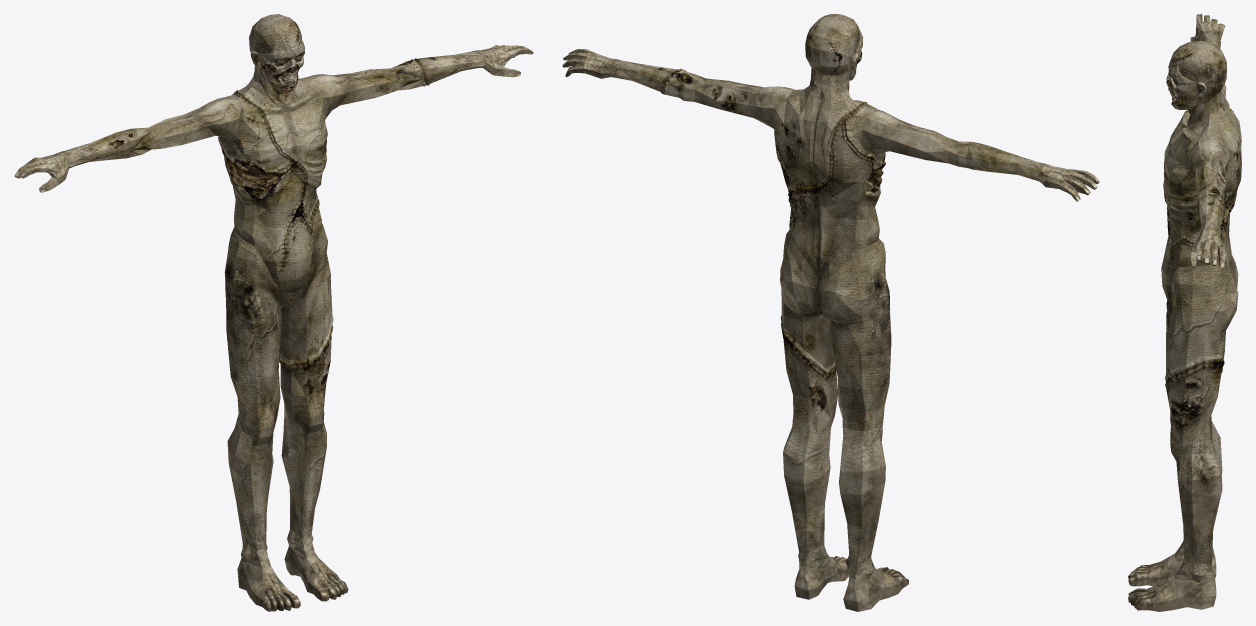
The model's file is NakedZombie.obj.
The picture shows the model from 3 angles, left to right: view 1: azimuth 30°, elevation 25°; view 2: azimuth 150°, elevation 25°; view 3: azimuth 270°, elevation 25°; orthographic projection. The views are drawn at different scales.
Parts seen in each view (by area): view 1: Mesh.088_mesh0317; view 2: Mesh.088_mesh0317; view 3: Mesh.088_mesh0317.
Boxes of the visible parts, bbox=[...] form: Mesh.088_mesh0317: bbox=[14, 14, 533, 611]; Mesh.088_mesh0317: bbox=[562, 14, 1099, 611]; Mesh.088_mesh0317: bbox=[1128, 14, 1241, 611].
Size of the model in its own units: 17.46 by 18.2 by 3.42.
Materials: 2 (2 with a texture image).
